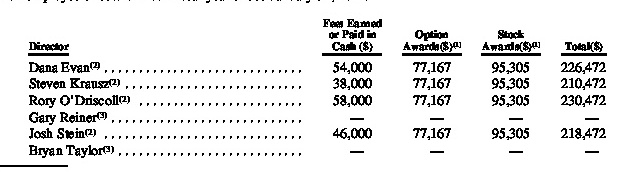table: (0, 0, 632, 172)
